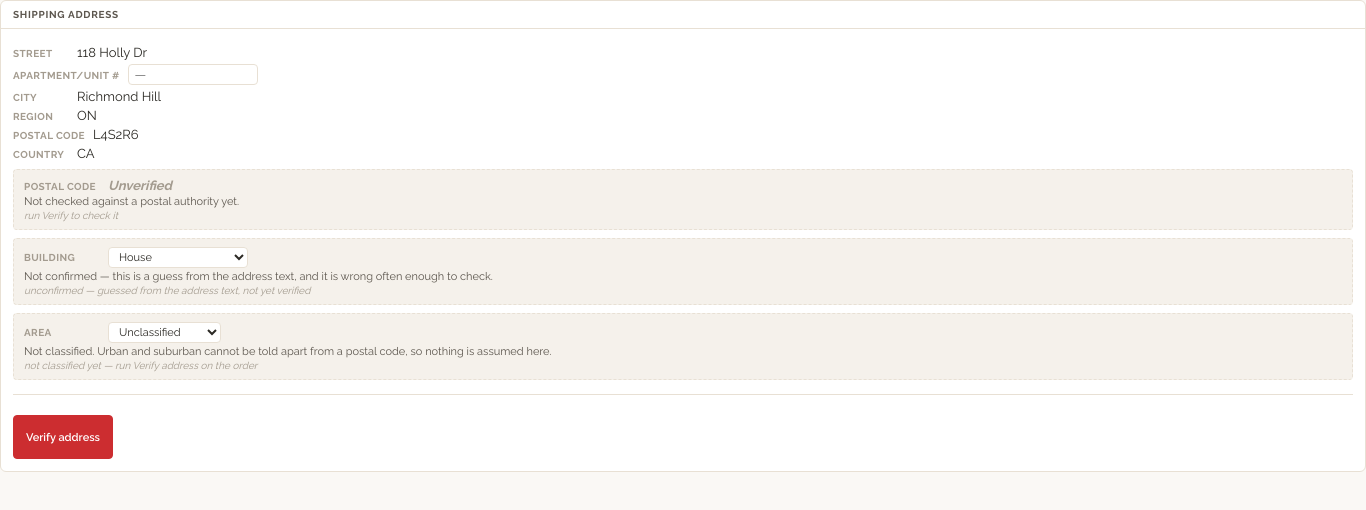
Test: AddressCard — running a verify › reports what each pass established, including what it could not
Click the button "Verify address".
click(63, 437)  # box top-left (13, 415), bottom-right (113, 459)
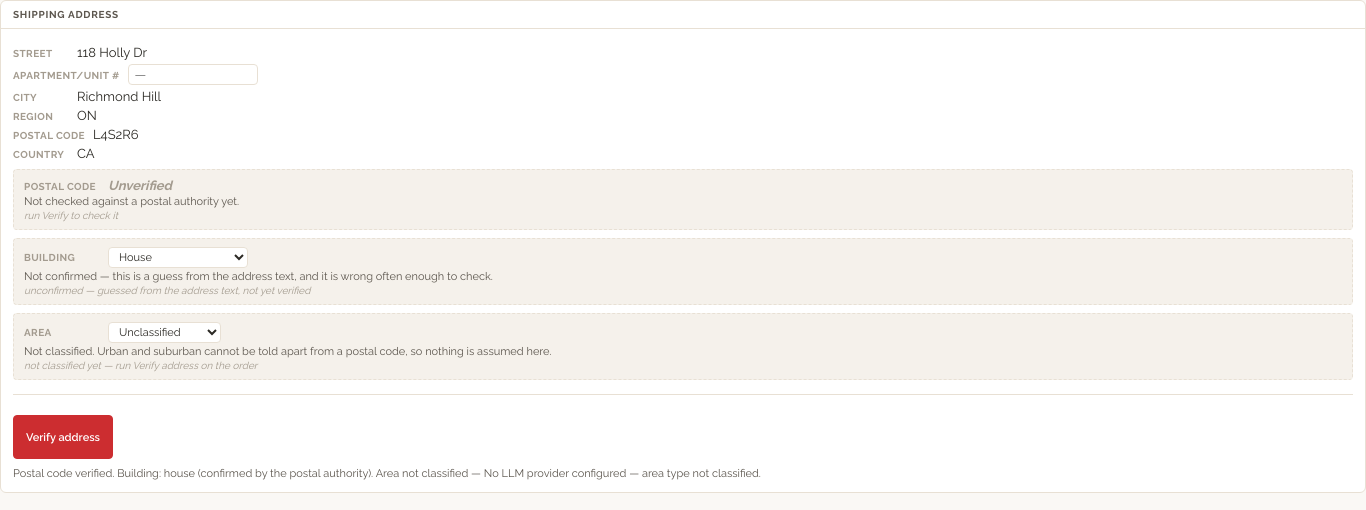
expect the text "Area not classified — No LLM provider configured" is shown: met, box top-left (13, 467), bottom-right (761, 480)
